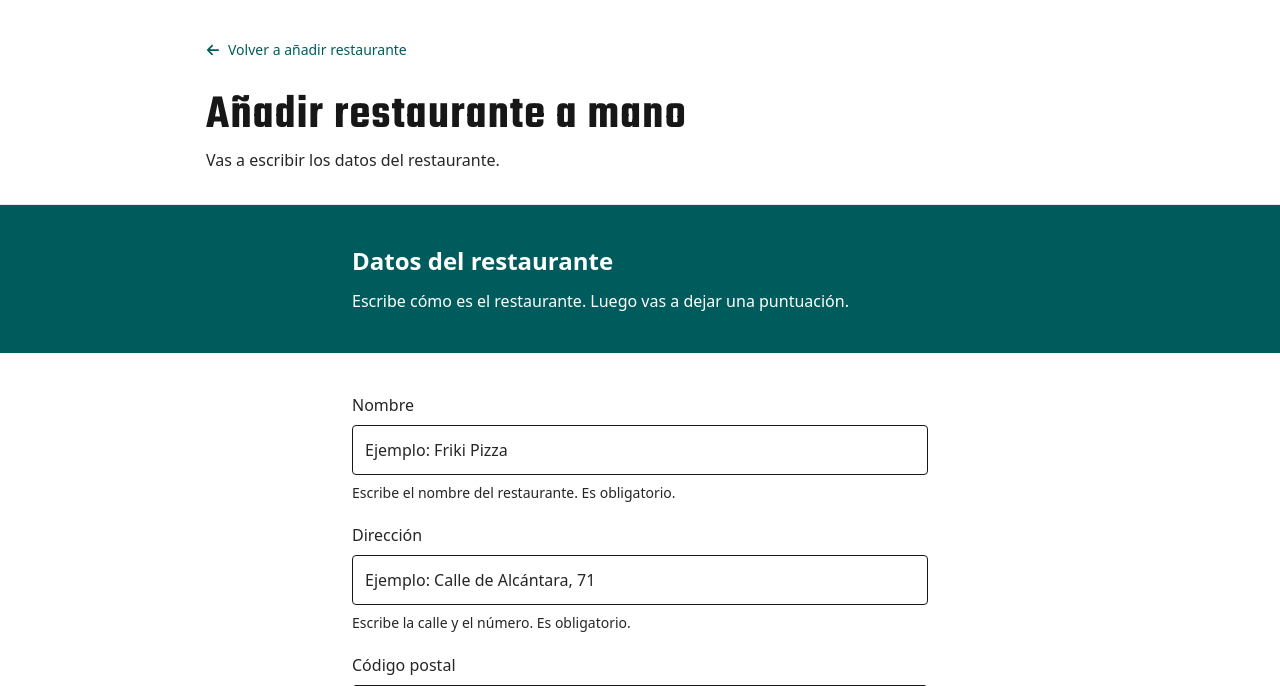
Test: Given I add a restaurant by hand › When the restaurant cannot be saved › Then I should be told to try again
Step 1. Type "Canalla Bistro" into the field labelled "Nombre" → (640, 450), box [352,425,928,475]
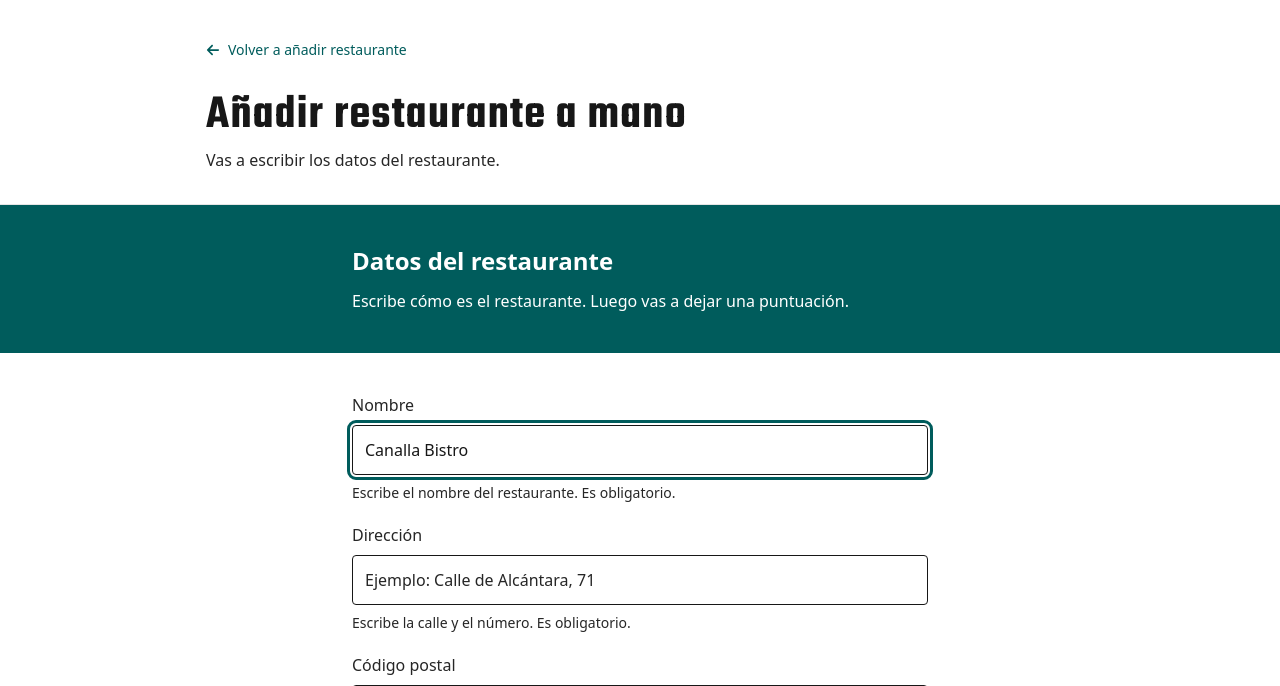
Step 2. Type "Carrer de la Llotja, 2" into the field labelled "Dirección" → (640, 580), box [352,555,928,605]
(page scrolled)
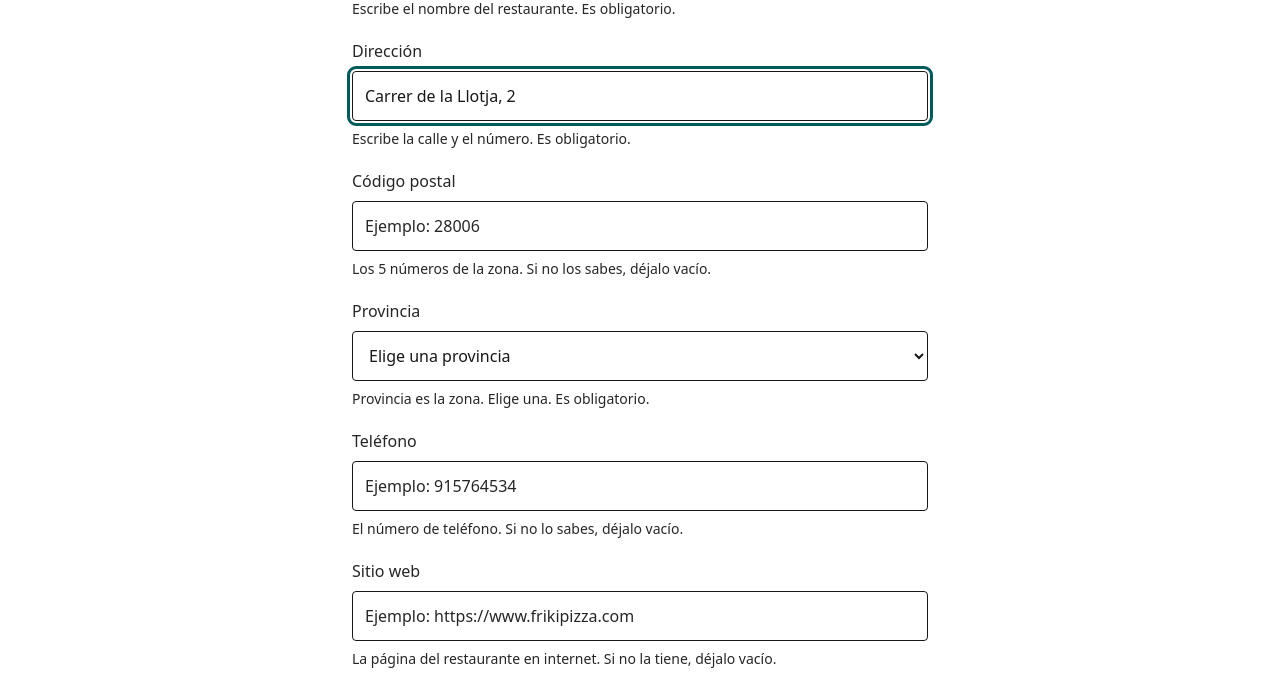
Step 3. Select "Valencia" in the dropdown labelled "Provincia" → (640, 356), box [352,331,928,381]
(page scrolled)
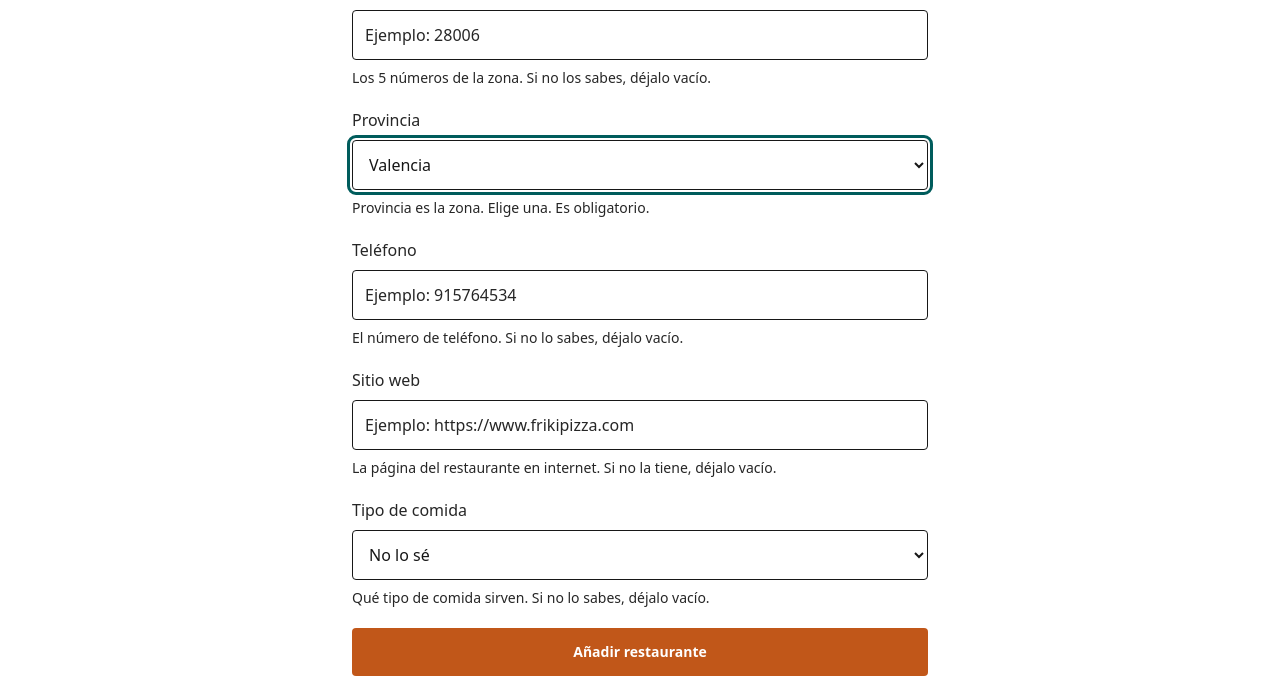
Step 4. Click the button "Añadir restaurante" → (640, 652), box [352,628,928,676]
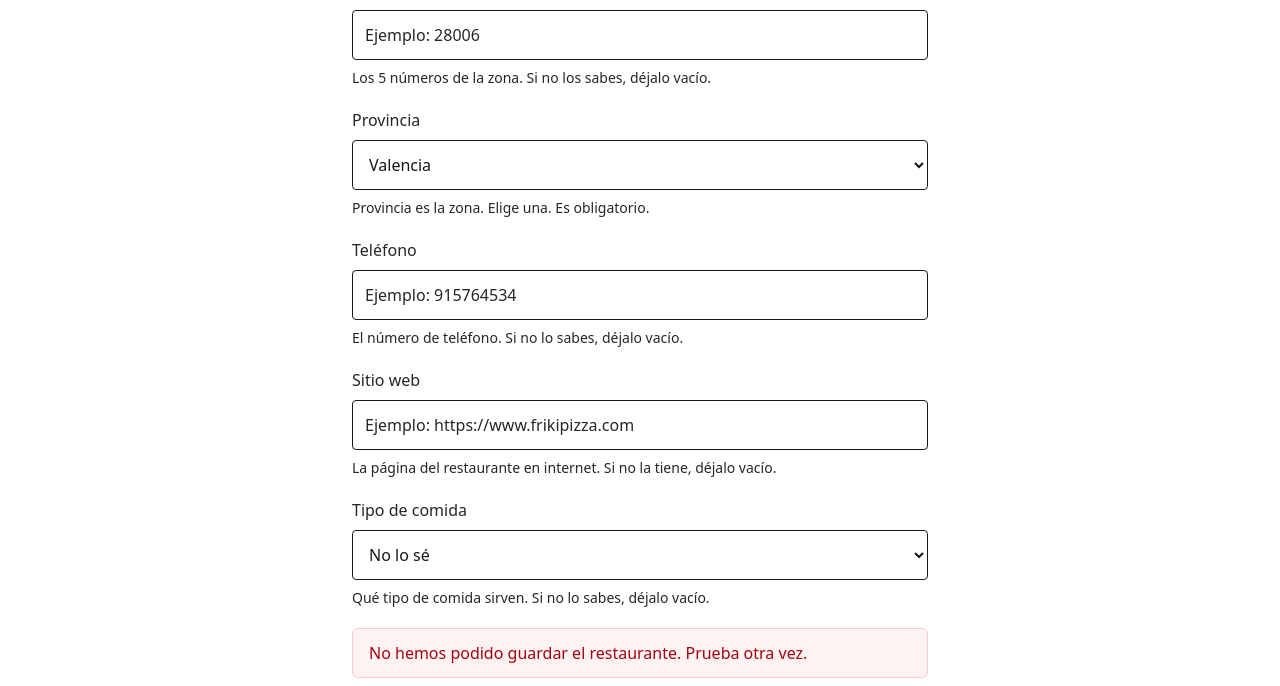
Expected: the message reads "No hemos podido guardar el restaurante. Prueba otra vez.", [369,642,807,664]
